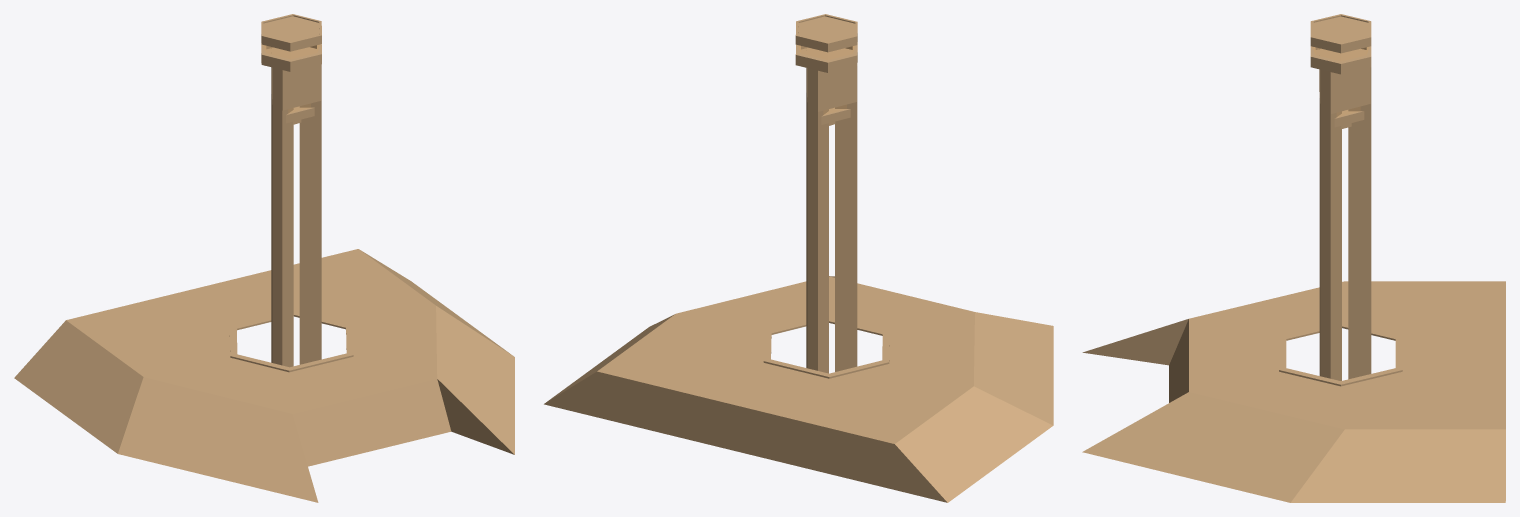
Rendered from oerk-tower.gltf.
The picture shows the model from 3 angles, left to right: view 1: azimuth 30°, elevation 25°; view 2: azimuth 150°, elevation 25°; view 3: azimuth 270°, elevation 25°; orthographic projection. The views are drawn at different scales.
Visible parts, largest first — view 1: Plane, Cube.003, Cube, Cube.004; view 2: Plane, Cube.003, Cube, Cube.004; view 3: Plane, Cube.003, Cube, Cube.004.
Part boxes in pixels (left/top/right/bottom): Plane: left=14, top=249, right=514, bottom=502; Cube.003: left=271, top=64, right=321, bottom=367; Cube: left=261, top=14, right=321, bottom=71; Cube.004: left=271, top=47, right=321, bottom=110; Plane: left=544, top=276, right=1053, bottom=502; Cube.003: left=806, top=66, right=857, bottom=373; Cube: left=795, top=14, right=857, bottom=72; Cube.004: left=806, top=47, right=856, bottom=111; Plane: left=1082, top=281, right=1505, bottom=502; Cube.003: left=1319, top=67, right=1371, bottom=380; Cube: left=1310, top=14, right=1371, bottom=74; Cube.004: left=1319, top=48, right=1370, bottom=113.
Bounding box in the file's own units: 100 × 87.34 × 89.48.
